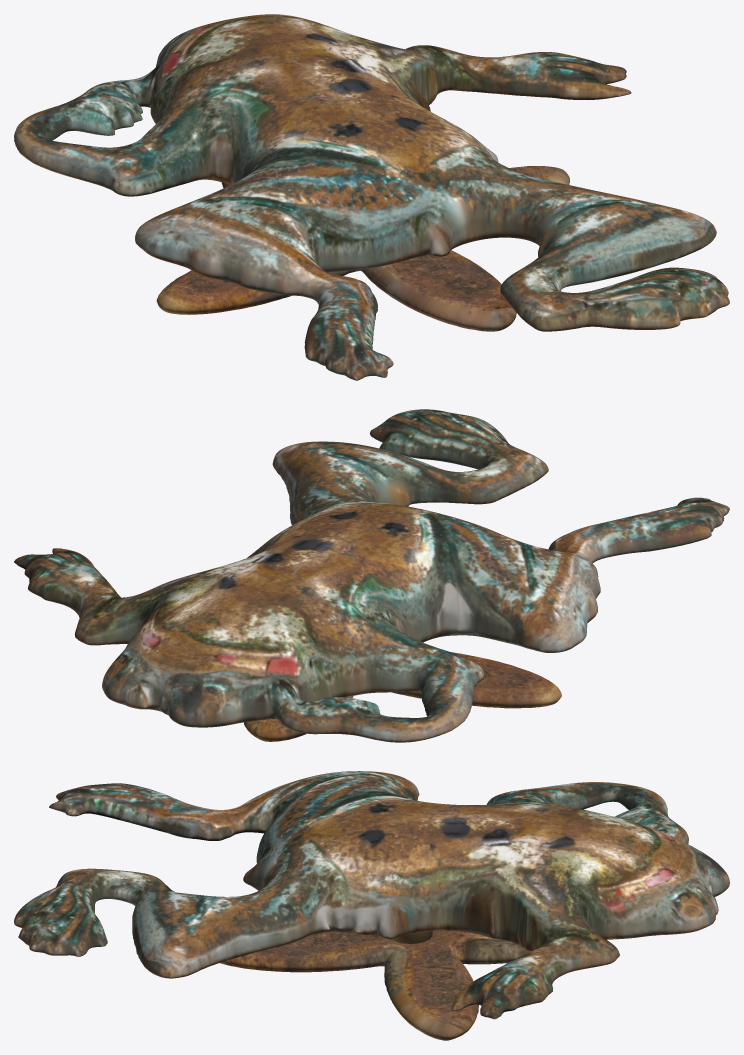
Rendered from Frosch_49790_v3.glb.
3 views of the same model, one above another, from view 1: azimuth 30°, elevation 25°; view 2: azimuth 150°, elevation 25°; view 3: azimuth 270°, elevation 25° (orthographic). The views are drawn at different scales.
Visible parts, largest first — view 1: Frosch, Spange; view 2: Frosch, Spange; view 3: Frosch, Spange.
Part boxes in pixels (x1,y1,x2,y2): Frosch: [14, 14, 729, 380]; Spange: [156, 166, 569, 331]; Frosch: [14, 409, 729, 742]; Spange: [244, 652, 561, 741]; Frosch: [14, 771, 729, 1019]; Spange: [220, 930, 531, 1040].
Bounding box in the file's own units: 0.0347 × 0.009 × 0.045.
3 materials, 2 textured.
